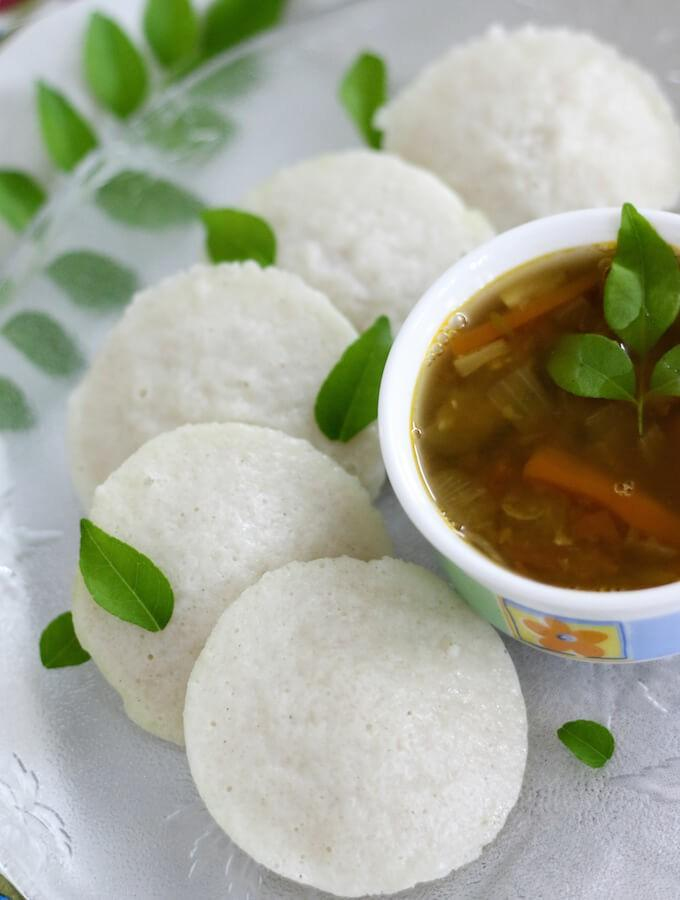Idli: (186, 559, 532, 884), (73, 423, 406, 740), (68, 261, 377, 516), (371, 26, 673, 232), (221, 153, 475, 341)
